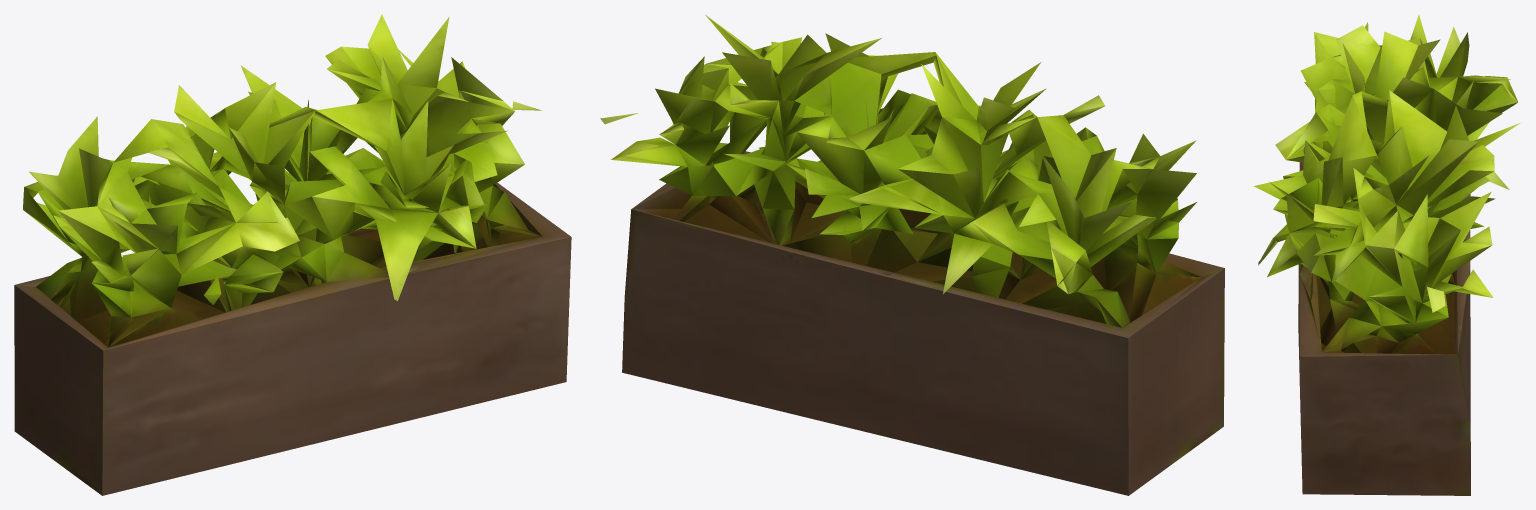
File: lobbyPlanterR.glb
3 renders of one model, left to right at view 1: azimuth 30°, elevation 25°; view 2: azimuth 150°, elevation 25°; view 3: azimuth 270°, elevation 25°, orthographic. The views are drawn at different scales.
Parts seen in each view (by area): view 1: model; view 2: model; view 3: model.
Part boxes in pixels (x1,y1,x2,y2): model: [14, 14, 571, 495]; model: [600, 15, 1224, 495]; model: [1253, 14, 1520, 495].
Size of the model in its own units: 1.85 by 1.12 by 0.8654.
1 material, 1 textured.
